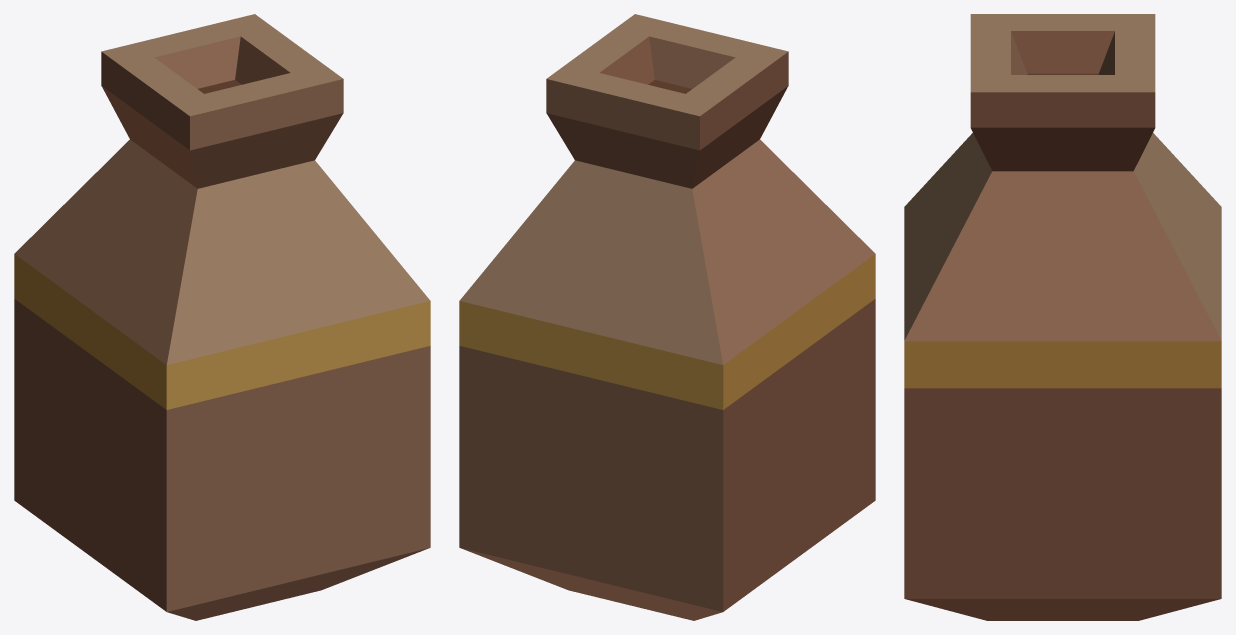
File: ST_Prop_Vase_01.fbx
3 renders of one model, left to right at view 1: azimuth 30°, elevation 25°; view 2: azimuth 150°, elevation 25°; view 3: azimuth 270°, elevation 25°, orthographic. The views are drawn at different scales.
Parts seen in each view (by area): view 1: ST_Prop_Vase_01; view 2: ST_Prop_Vase_01; view 3: ST_Prop_Vase_01.
Boxes of the visible parts, x1,y1,x2,y2 form: ST_Prop_Vase_01: (14,14,430,620); ST_Prop_Vase_01: (459,14,875,620); ST_Prop_Vase_01: (904,14,1221,620).
Bounding box in the file's own units: 0.4116 × 0.7663 × 0.4116.
